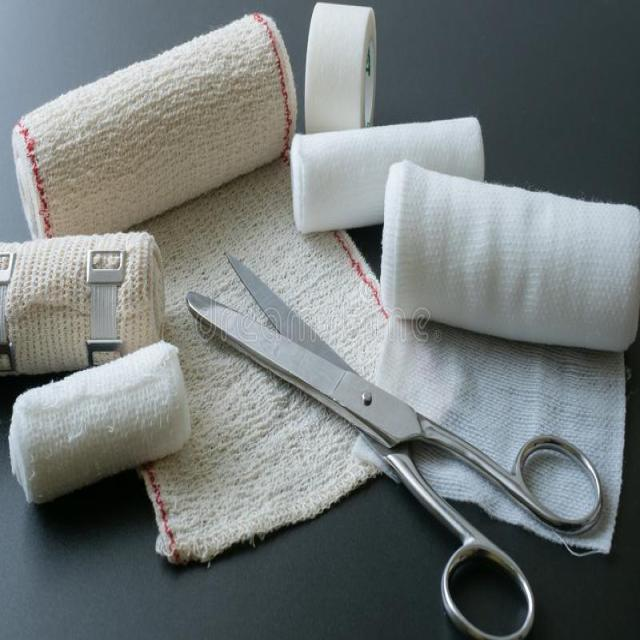B3: (189, 254, 609, 640), (361, 153, 640, 378), (9, 357, 224, 521), (279, 105, 498, 246)
